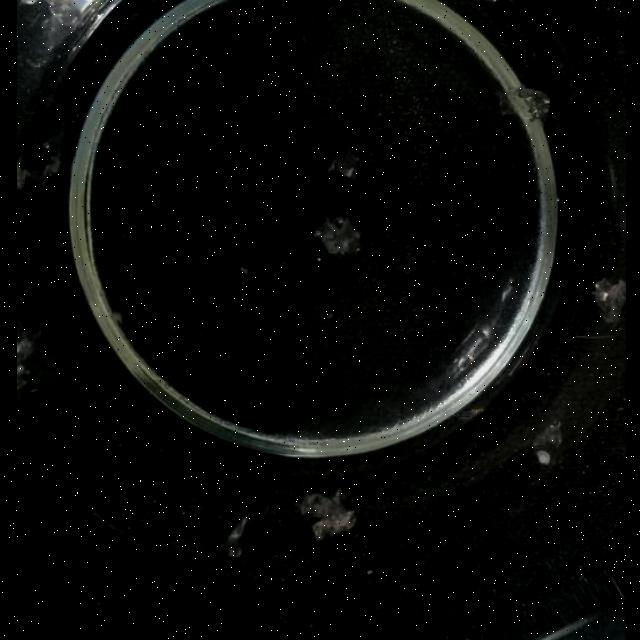Fibre: (300, 488, 356, 538), (15, 143, 60, 193), (590, 279, 626, 325), (508, 86, 550, 120), (16, 332, 38, 386), (222, 516, 248, 558), (326, 152, 359, 182), (15, 156, 28, 192), (107, 311, 121, 327)
Fragment: (313, 215, 362, 258)
microbeads: (535, 451, 549, 465), (236, 265, 248, 275), (240, 180, 252, 190)
